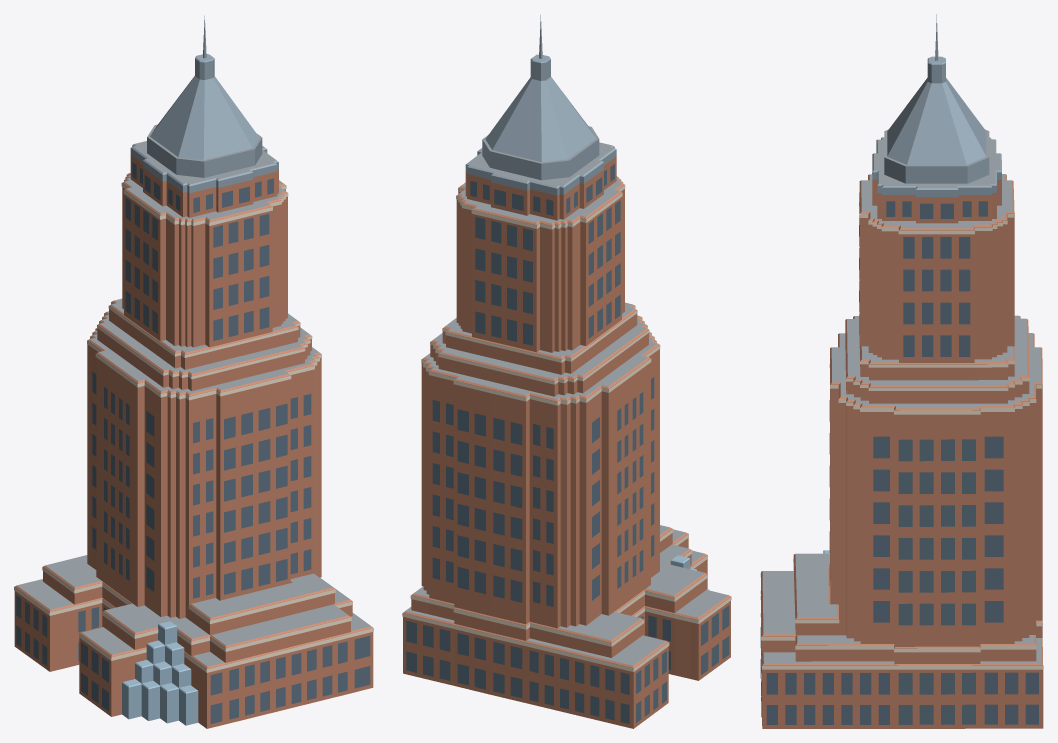
File: pdx-koin-center.glb
3 renders of one model, left to right at view 1: azimuth 30°, elevation 25°; view 2: azimuth 150°, elevation 25°; view 3: azimuth 270°, elevation 25°, orthographic. The views are drawn at different scales.
Visible parts, largest first — view 1: KOIN Tower; view 2: KOIN Tower; view 3: KOIN Tower.
Part boxes in pixels (box(x1,y1,x2,y2)): KOIN Tower: box(14, 15, 373, 728); KOIN Tower: box(402, 15, 731, 728); KOIN Tower: box(760, 14, 1043, 728).
Bounding box in the file's own units: 58.29 × 155 × 59.39.
